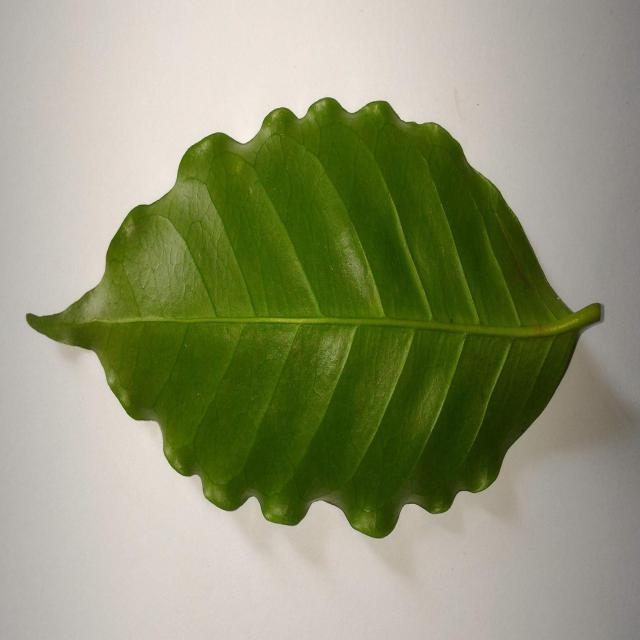nodisease: (27, 98, 602, 538)
